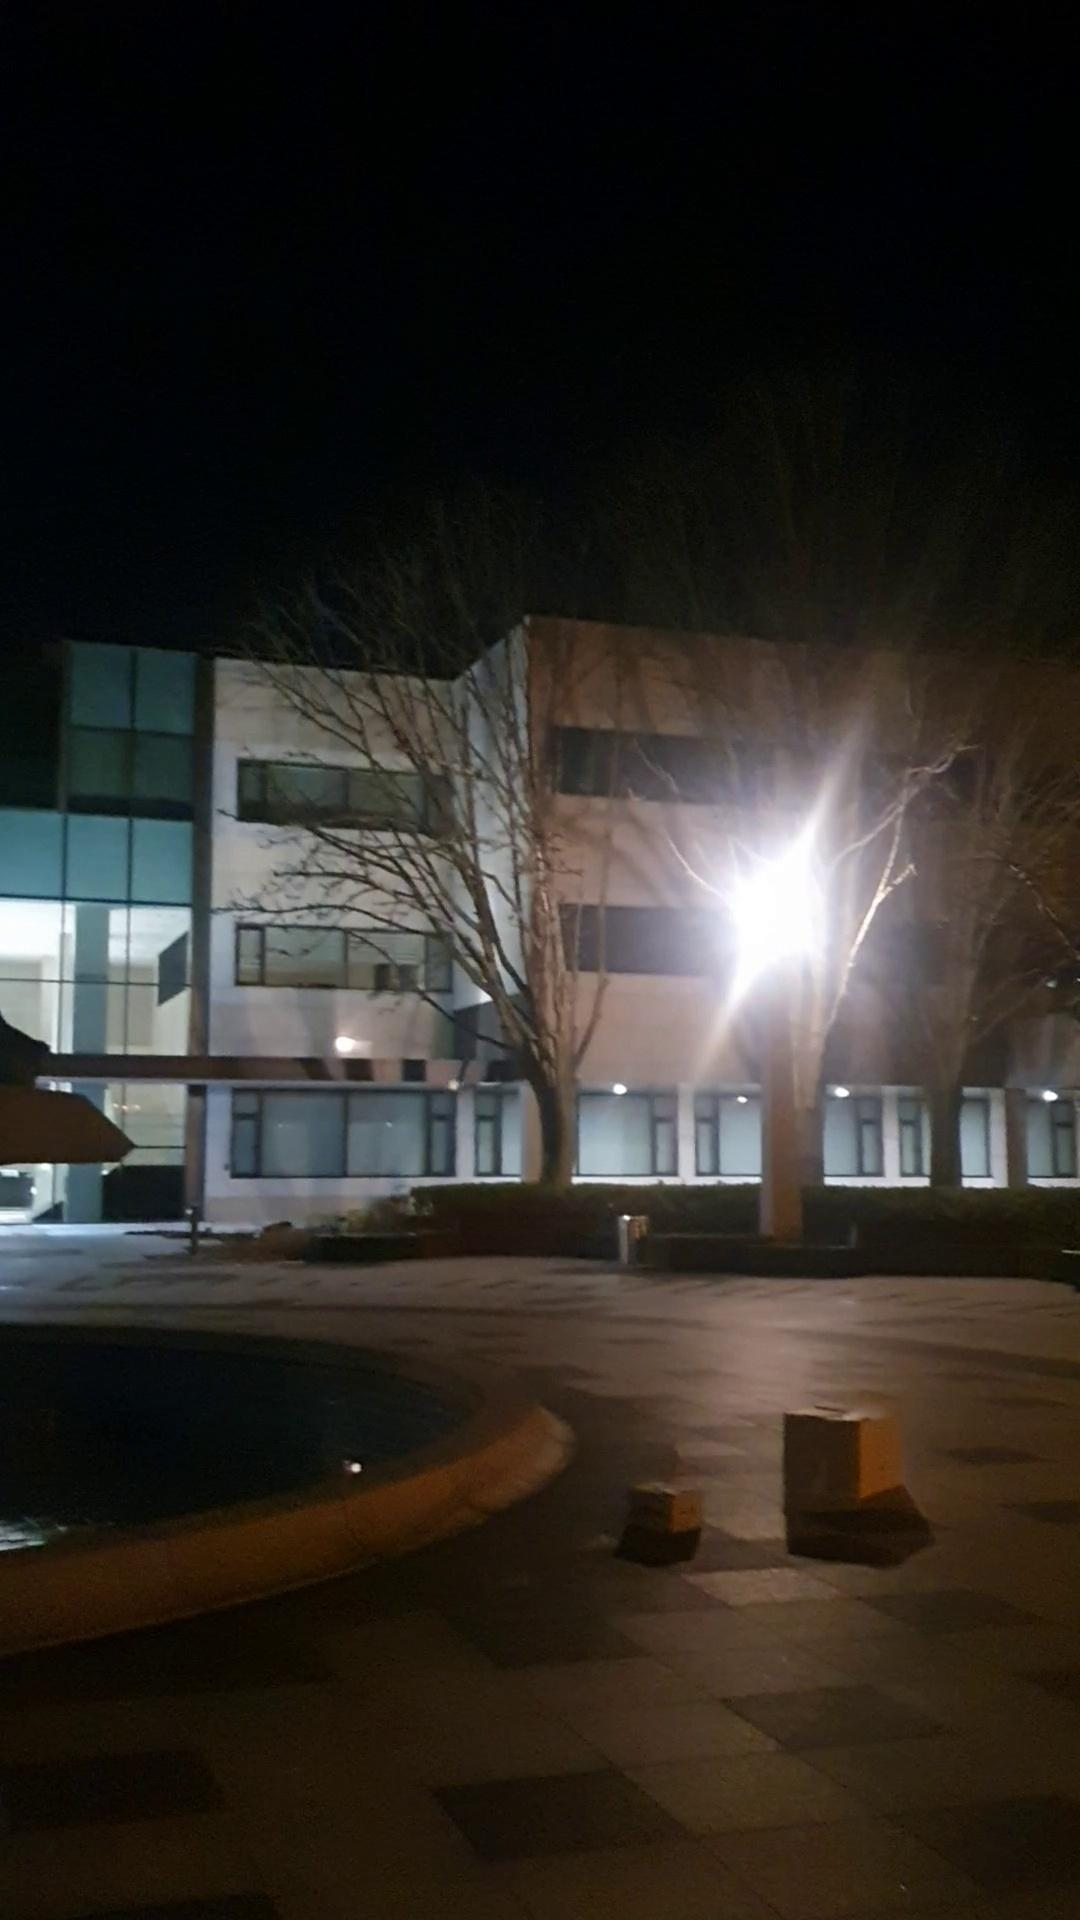Box: (767, 1393, 902, 1530), (621, 1462, 723, 1549)
